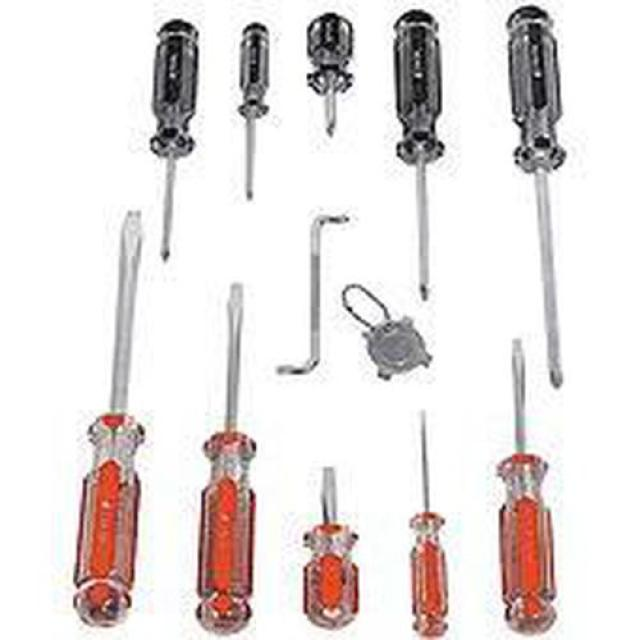screw driver: (496, 0, 620, 401), (59, 193, 154, 634), (466, 318, 584, 640), (96, 13, 220, 258), (186, 272, 268, 636), (378, 12, 476, 306), (384, 392, 481, 640), (219, 8, 292, 222), (294, 442, 370, 640), (292, 6, 364, 141)
